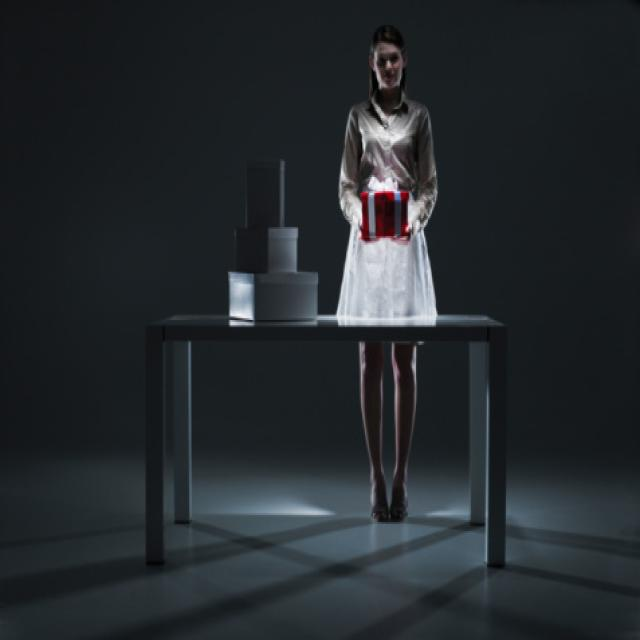People: (333, 17, 450, 543)
Table: (98, 297, 532, 600)
